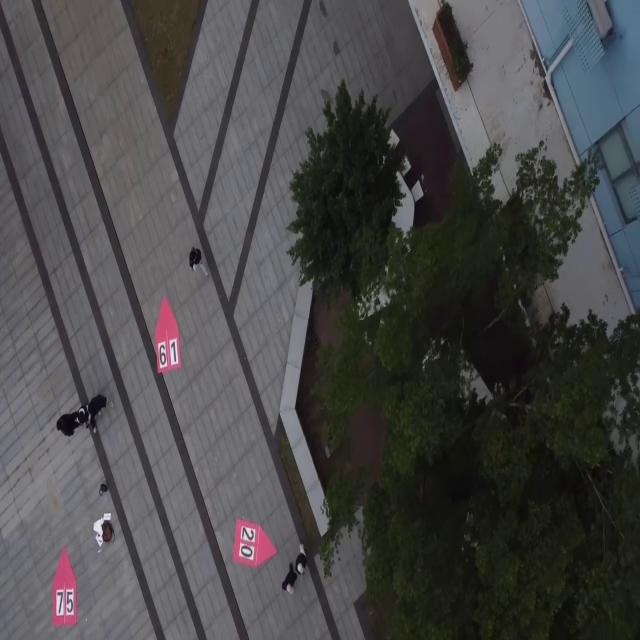-sign-: (148, 286, 185, 378), (49, 541, 82, 637), (230, 514, 280, 574)
